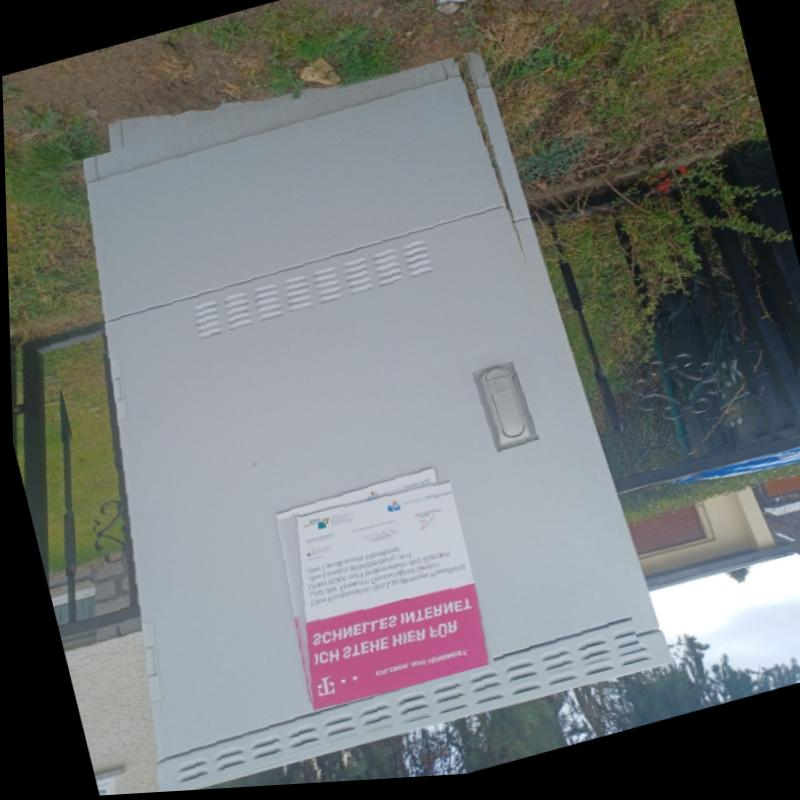NT-Gehause: (7, 47, 643, 800)
Steaker: (290, 486, 485, 715)
